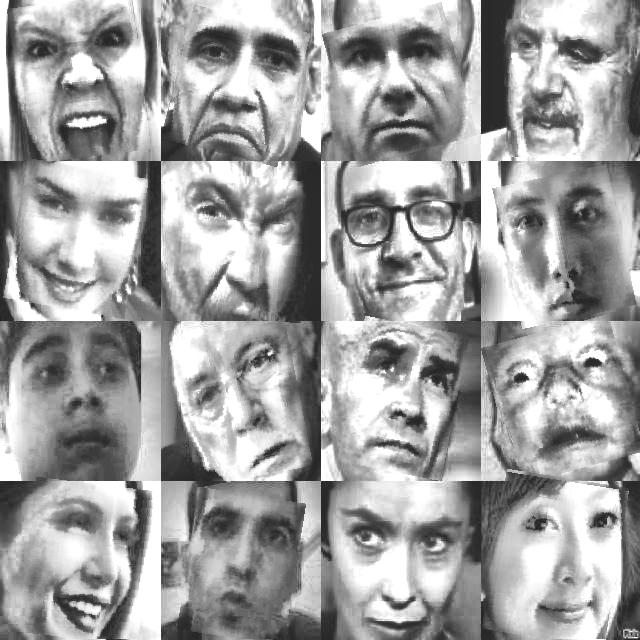angry: (11, 0, 146, 160), (330, 9, 470, 161), (333, 489, 467, 640), (173, 174, 310, 320), (182, 491, 301, 640)
fear: (489, 322, 637, 478), (15, 326, 136, 472)
happy: (488, 473, 623, 640), (21, 480, 151, 640), (8, 163, 142, 315), (345, 179, 463, 313), (503, 14, 611, 156)
neutral: (175, 324, 307, 483)
sad: (499, 170, 630, 324), (169, 11, 303, 161), (343, 321, 462, 477)
